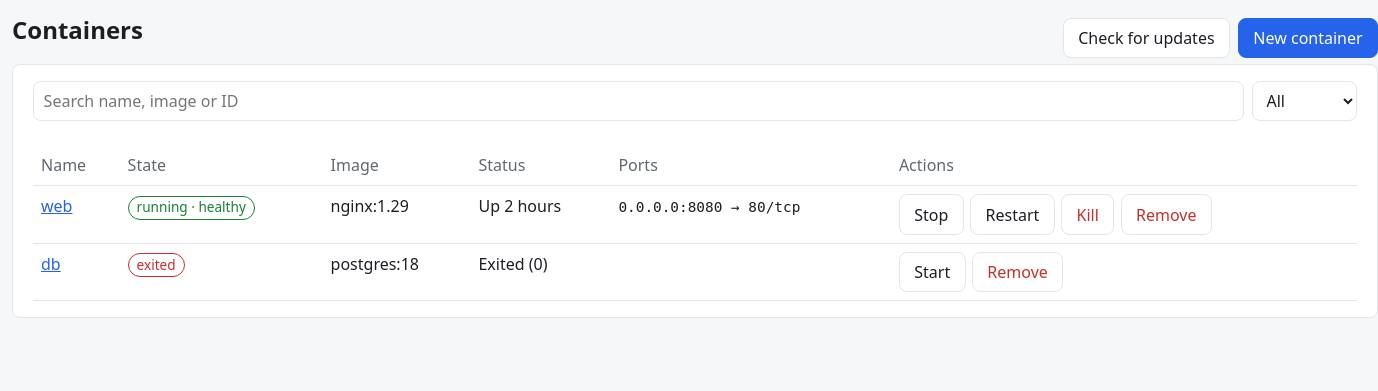
Test case: ContainersView › shows a failed update check
Click the button "Check for updates": x=1146, y=38 1063,18 -> 1230,58
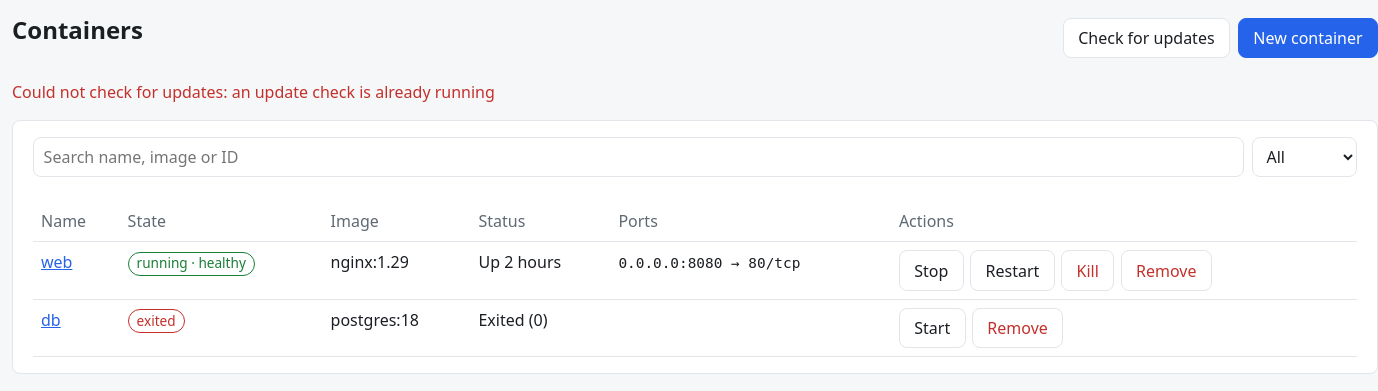
Check: the message "Could not check for updates: an update check is already running" is shown, box 12,81 -> 495,103
